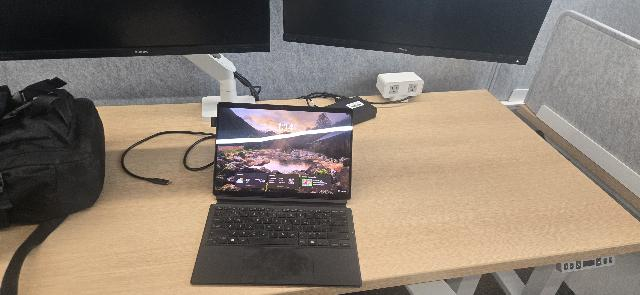Keyboard: (206, 206, 351, 247)
